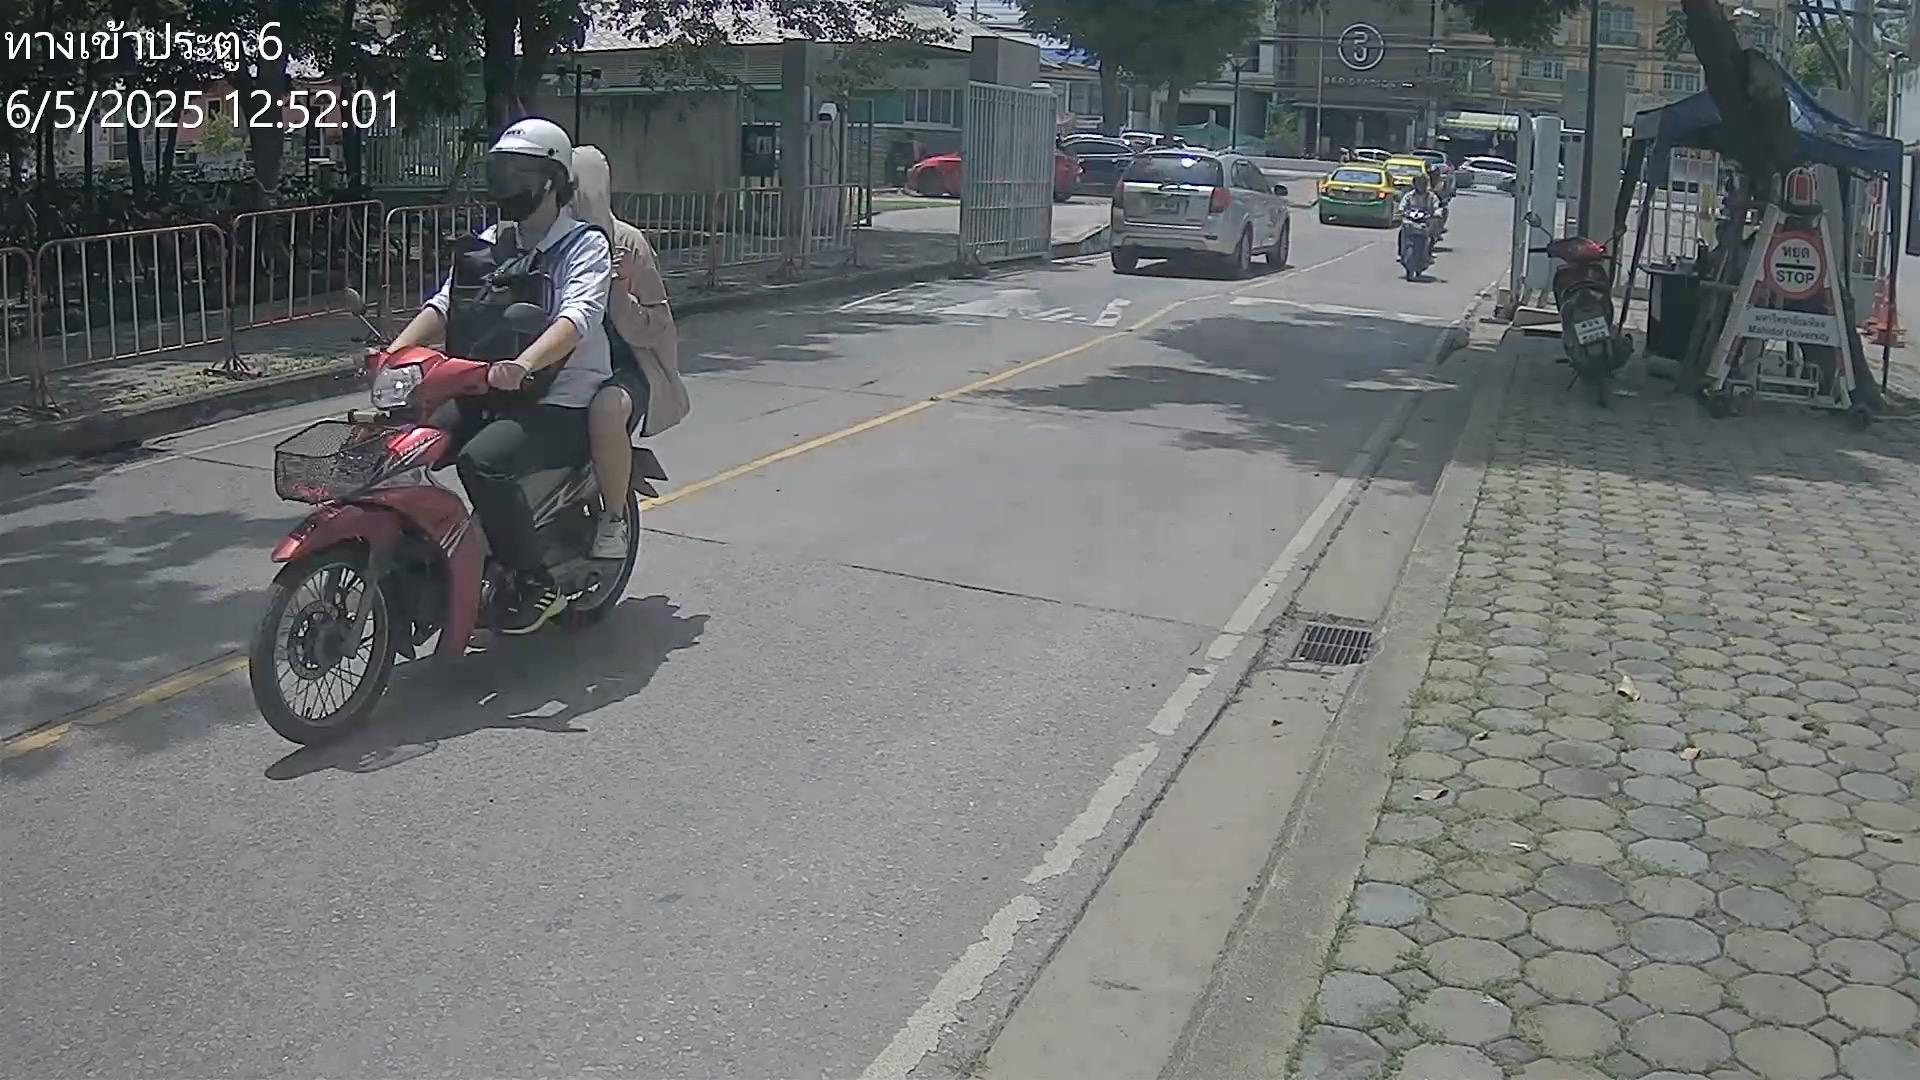With-Helmet: (483, 115, 578, 215)
